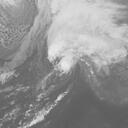cyclone: (46, 22, 106, 82)
